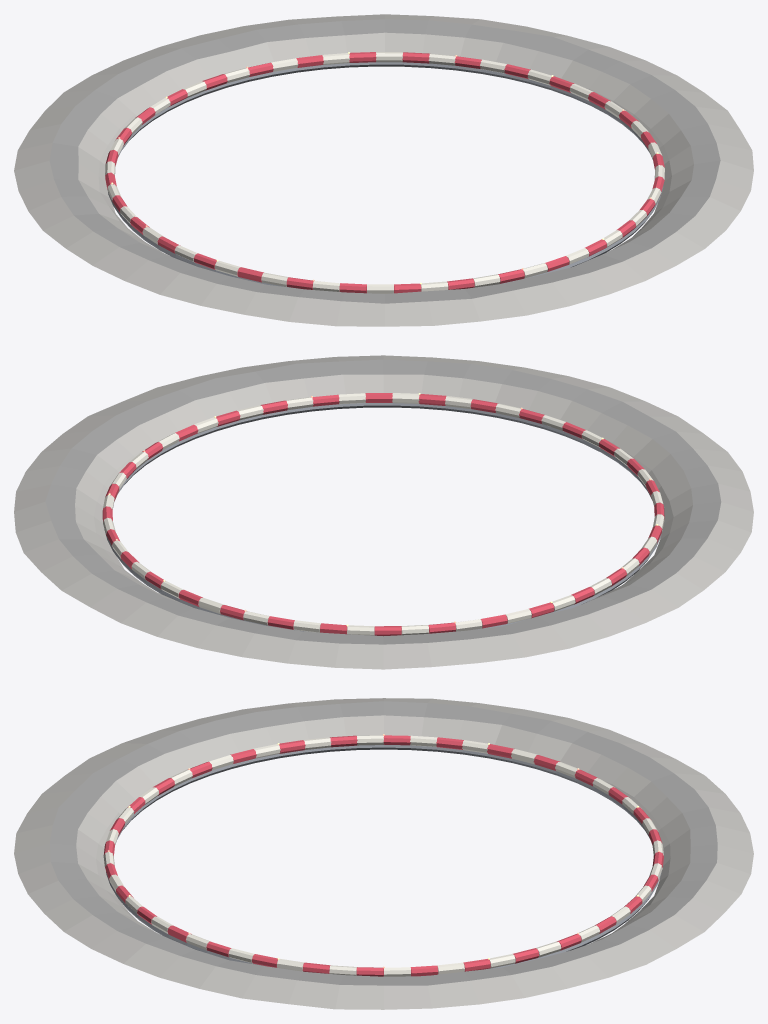
File: arena_rim.glb
3 renders of one model, top to bottom at view 1: azimuth 30°, elevation 25°; view 2: azimuth 150°, elevation 25°; view 3: azimuth 270°, elevation 25°, orthographic.
Visible parts, largest first — view 1: arena_rim; view 2: arena_rim; view 3: arena_rim.
Boxes of the visible parts, x1,y1,x2,y2 form: arena_rim: (14,14,753,326); arena_rim: (14,355,753,669); arena_rim: (14,698,753,1009).
Bounding box in the file's own units: 108 × 3.71 × 108.
